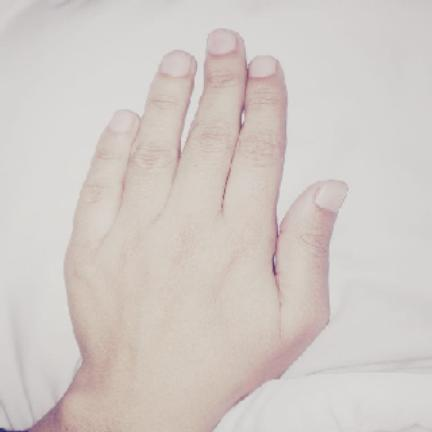Nail: (315, 180, 348, 213), (159, 51, 191, 77), (207, 29, 237, 56), (249, 56, 277, 78), (108, 110, 135, 132)
